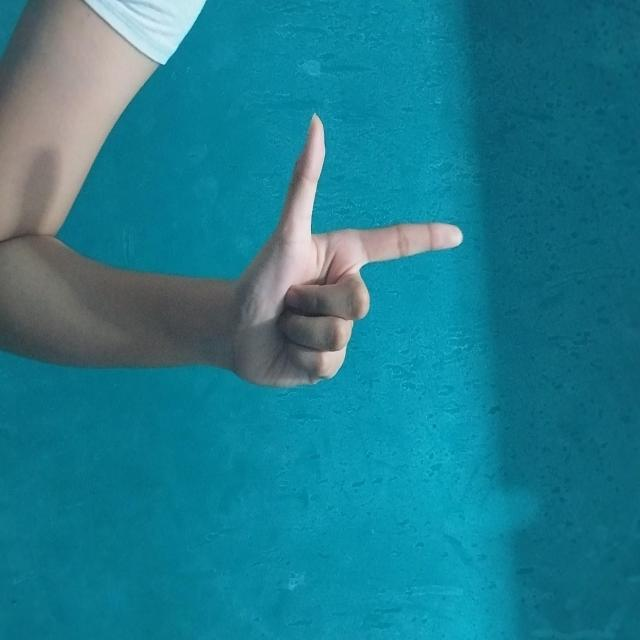L: (111, 172, 393, 408)
